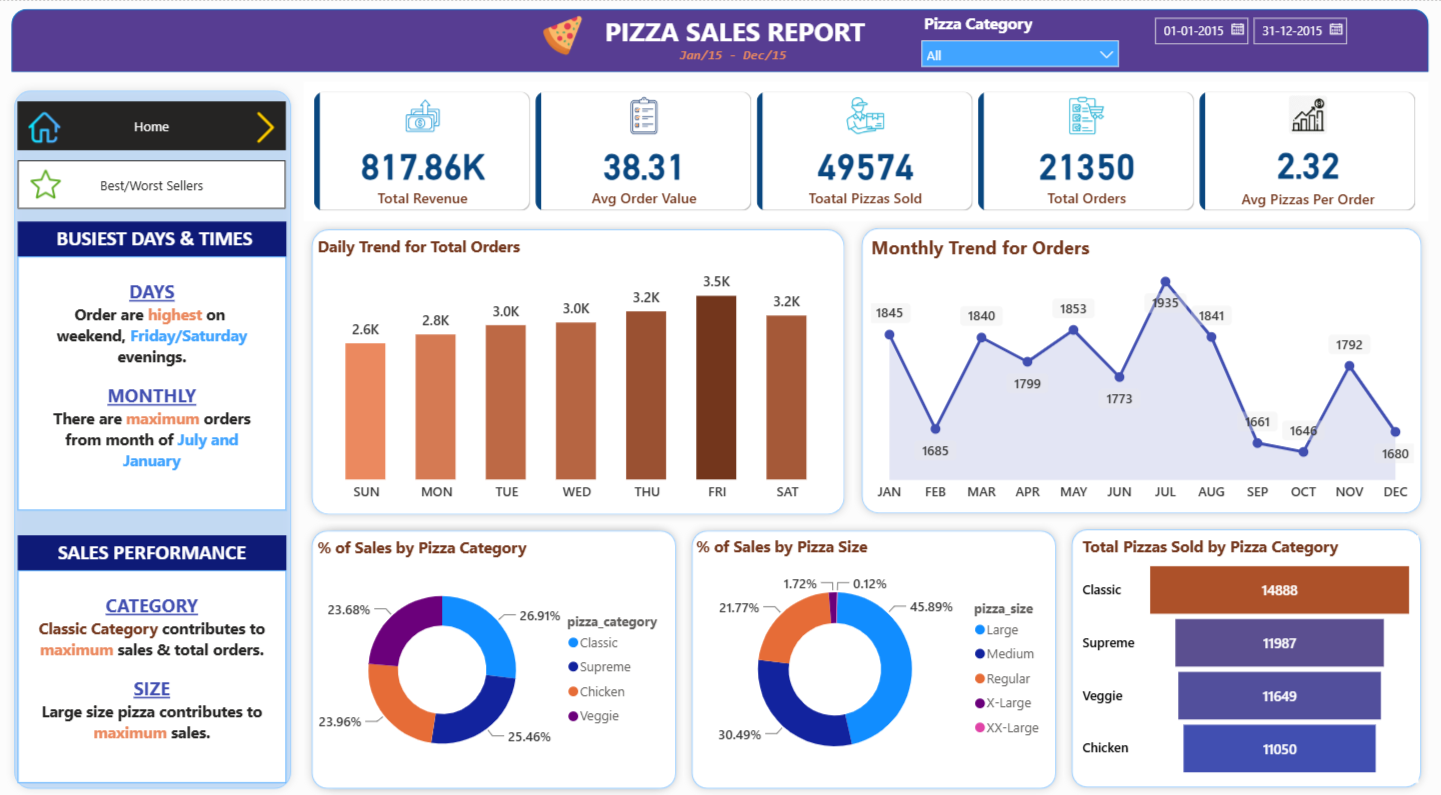

Layout of this report page (visuals, bound fields, positions):
{"tool":"powerbi","page":{"name":"Home","canvas":[1500,820],"ordinal":0},"visuals":[{"type":"cardVisual","fields":{"Data":["pizza_sales.Total Revenue","pizza_sales.Avg Order Value","pizza_sales.Toatal Pizzas Sold","pizza_sales.Total Orders","pizza_sales.Avg Pizzas Per Order"]},"box":[323.8,83.8,1158.8,143.8],"z":0},{"type":"shape","box":[22.5,8.8,1460,65],"z":1000},{"type":"textbox","box":[628.8,8.8,288.8,53.8],"z":2000},{"type":"textbox","box":[663.8,41.2,203.8,32.5],"z":3000},{"type":"image","box":[563.8,15,51.2,41.2],"z":4000},{"type":"shape","box":[323.8,227.5,565,310],"z":5000},{"type":"columnChart","title":"Daily Trend for Total Orders","fields":{"Category":["pizza_sales.Order Day"],"Y":["pizza_sales.Total Orders"]},"box":[332.5,242.5,545,283.8],"z":6000},{"type":"shape","box":[890,227.1,592.9,310],"z":7000},{"type":"areaChart","title":" Monthly Trend for Orders","fields":{"Category":["pizza_sales.Order Month"],"Y":["pizza_sales.Total Orders"]},"box":[902.7,242.1,569.2,283.3],"z":8000},{"type":"shape","box":[332.2,538.3,376,282],"z":9000},{"type":"shape","box":[323.2,538.3,391.5,282],"z":10000},{"type":"shape","box":[714.7,538.3,391.5,282],"z":11000},{"type":"shape","box":[1106.1,537,376,282],"z":12000},{"type":"donutChart","title":"% of Sales by Pizza Category","fields":{"Category":["pizza_sales.pizza_category"],"Y":["pizza_sales.Total Revenue"]},"box":[332.5,551.9,376.1,253.5],"z":13000},{"type":"donutChart","title":"% of Sales by Pizza Size","fields":{"Y":["pizza_sales.Total Revenue"],"Category":["pizza_sales.pizza_size"]},"box":[722.2,550.5,376.1,254.8],"z":14000},{"type":"funnel","title":"Total Pizzas Sold by Pizza Category","fields":{"Category":["pizza_sales.pizza_category"],"Y":["pizza_sales.Toatal Pizzas Sold"]},"box":[1120.1,550.5,351.6,254.8],"z":15000},{"type":"shape","box":[16.7,85,301.3,735.3],"z":16000},{"type":"textbox","box":[28.3,227.9,276.9,36.1],"z":17000},{"type":"textbox","box":[28.3,264,276.9,261.4],"z":18000},{"type":"textbox","box":[28.3,551.1,276.9,36.1],"z":19000},{"type":"textbox","box":[28.3,587.2,276.9,218.9],"z":20000},{"type":"slicer","fields":{"Values":["pizza_sales.pizza_category"]},"box":[948.4,8.2,223.5,65.4],"z":21000},{"type":"slicer","fields":{"Values":["pizza_sales.order_date"]},"box":[1186.9,8.2,233,65.4],"z":22000},{"type":"pageNavigator","box":[28.6,104.9,276.6,50.4],"z":22001},{"type":"pageNavigator","box":[28.6,164.9,276.6,50.4],"z":22002},{"type":"image","box":[249.4,114.5,68.1,32.7],"z":22003},{"type":"image","box":[28.6,114.5,54.5,32.7],"z":22004},{"type":"image","box":[23.2,174.4,68.1,31.3],"z":22005}]}

Visuals, with their boxes in screenshot pixels (x1, y1, x2, y2), scaled from the page's 1500x820 canvas onto the 1441x795 screenshot:
cardVisual - pizza_sales.Total Revenue x pizza_sales.Avg Order Value: (left=311, top=81, right=1424, bottom=221)
shape: (left=22, top=9, right=1424, bottom=72)
textbox: (left=604, top=9, right=882, bottom=61)
textbox: (left=638, top=40, right=833, bottom=71)
image: (left=542, top=15, right=591, bottom=54)
shape: (left=311, top=221, right=854, bottom=521)
"Daily Trend for Total Orders" columnChart: (left=319, top=235, right=843, bottom=510)
shape: (left=855, top=220, right=1425, bottom=521)
" Monthly Trend for Orders" areaChart: (left=867, top=235, right=1414, bottom=509)
shape: (left=319, top=522, right=680, bottom=794)
shape: (left=310, top=522, right=687, bottom=794)
shape: (left=687, top=522, right=1063, bottom=794)
shape: (left=1063, top=521, right=1424, bottom=794)
"% of Sales by Pizza Category" donutChart: (left=319, top=535, right=681, bottom=781)
"% of Sales by Pizza Size" donutChart: (left=694, top=534, right=1055, bottom=781)
"Total Pizzas Sold by Pizza Category" funnel: (left=1076, top=534, right=1414, bottom=781)
shape: (left=16, top=82, right=305, bottom=794)
textbox: (left=27, top=221, right=293, bottom=256)
textbox: (left=27, top=256, right=293, bottom=509)
textbox: (left=27, top=534, right=293, bottom=569)
textbox: (left=27, top=569, right=293, bottom=782)
slicer - pizza_sales.pizza_category: (left=911, top=8, right=1126, bottom=71)
slicer - pizza_sales.order_date: (left=1140, top=8, right=1364, bottom=71)
pageNavigator: (left=27, top=102, right=293, bottom=151)
pageNavigator: (left=27, top=160, right=293, bottom=209)
image: (left=240, top=111, right=305, bottom=143)
image: (left=27, top=111, right=80, bottom=143)
image: (left=22, top=169, right=88, bottom=199)
